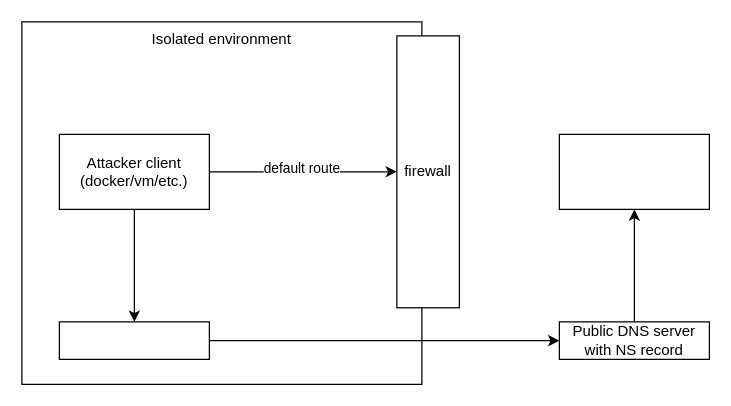
This 731x406 diagram has some shape labels left out. Each missing label, with the centre of its shape:
"Attacker DNS server" belongs at [633,171].
"Internal DNS server" belongs at [133,340].
